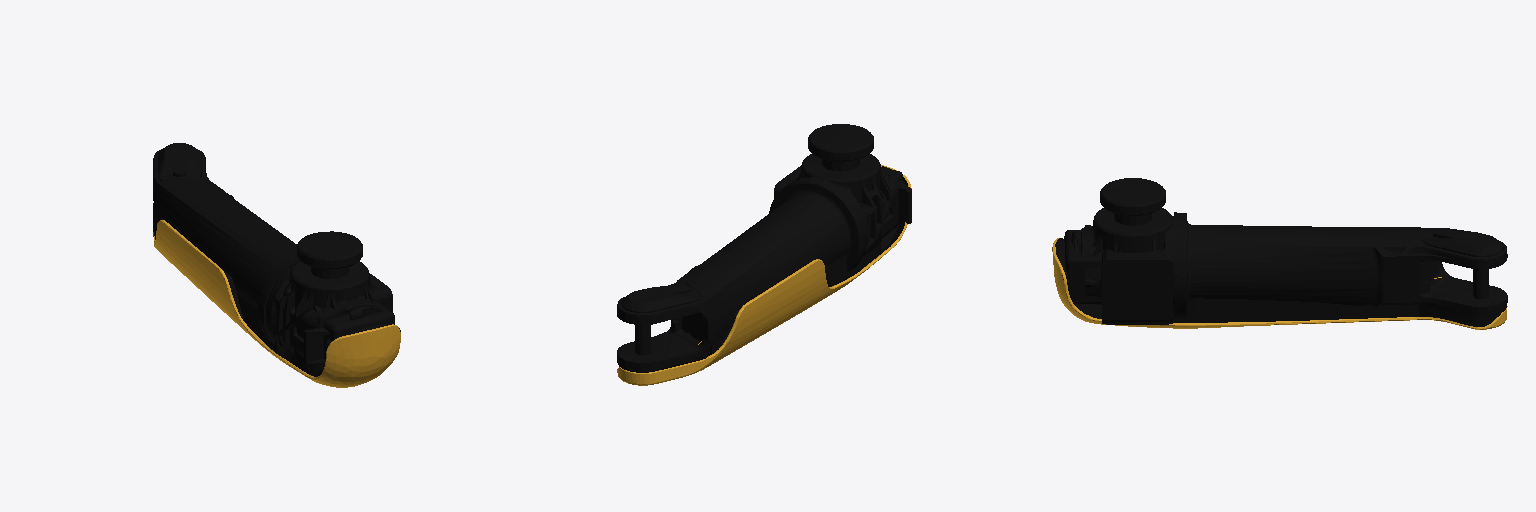
The model's file is rear_right_upper_leg.obj.
3 views of the same model, side by side, from view 1: azimuth 30°, elevation 25°; view 2: azimuth 150°, elevation 25°; view 3: azimuth 270°, elevation 25° (orthographic).
Parts seen in each view (by area): view 1: _2-042137-001-A00_TOP_LEVEL_DEFEATURED_-_NOT_FOR_PRODUCTION_004; view 2: _2-042137-001-A00_TOP_LEVEL_DEFEATURED_-_NOT_FOR_PRODUCTION_004; view 3: _2-042137-001-A00_TOP_LEVEL_DEFEATURED_-_NOT_FOR_PRODUCTION_004.
Boxes of the visible parts, box(x1,y1,x2,y2) form: _2-042137-001-A00_TOP_LEVEL_DEFEATURED_-_NOT_FOR_PRODUCTION_004: box(153, 143, 400, 387); _2-042137-001-A00_TOP_LEVEL_DEFEATURED_-_NOT_FOR_PRODUCTION_004: box(617, 124, 911, 385); _2-042137-001-A00_TOP_LEVEL_DEFEATURED_-_NOT_FOR_PRODUCTION_004: box(1052, 178, 1507, 329).
Size of the model in its own units: 0.1011 by 0.1322 by 0.4185.